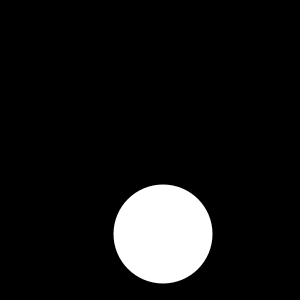rectangle: (113, 184, 212, 284)
